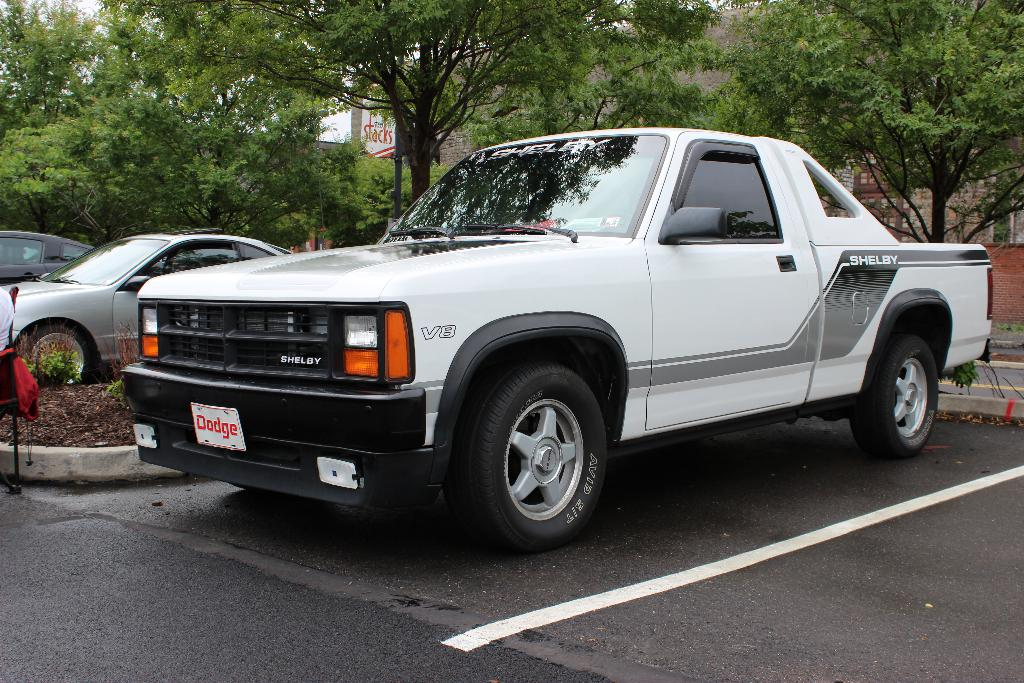Car: (117, 116, 1004, 552), (8, 236, 327, 378), (0, 233, 99, 278)
